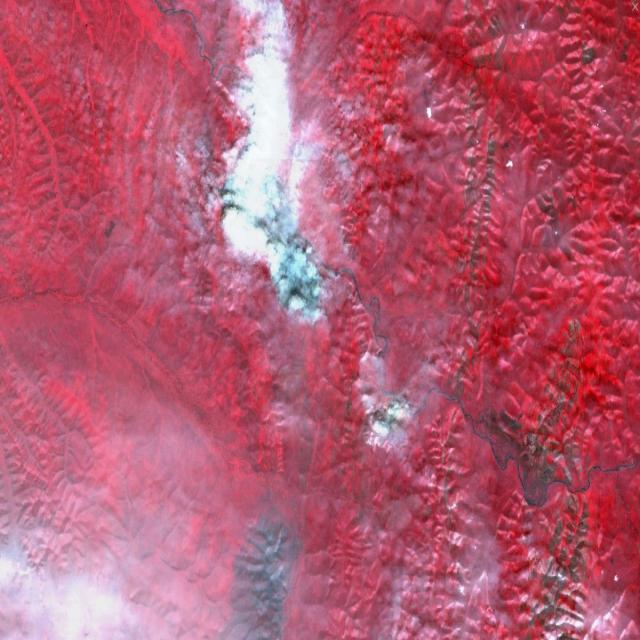fire: (215, 150, 327, 326), (368, 397, 402, 447)
